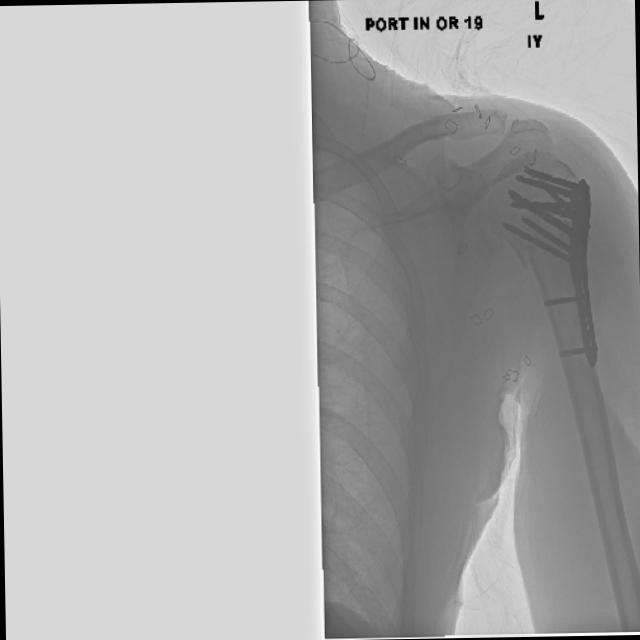humerus fracture: (492, 230, 559, 300)
